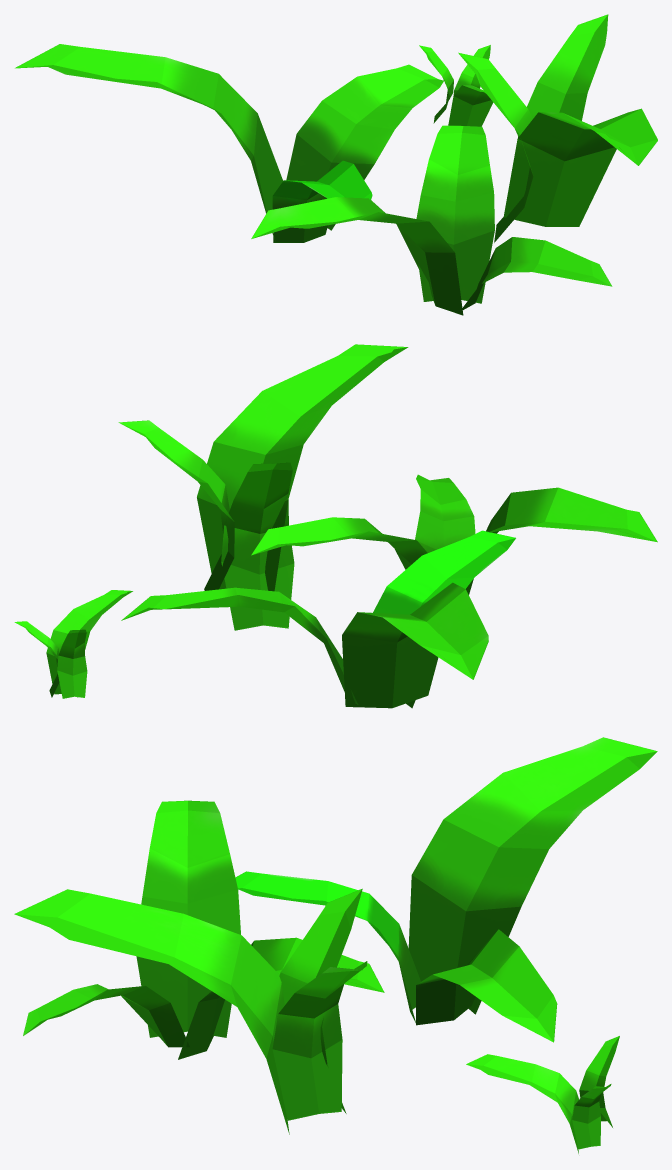
Rendered from weed_1.glb.
3 renders of one model, top to bottom at view 1: azimuth 30°, elevation 25°; view 2: azimuth 150°, elevation 25°; view 3: azimuth 270°, elevation 25°, orthographic. The views are drawn at different scales.
Parts seen in each view (by area): view 1: Plane.002, Plane.005, Plane.010, Plane.001, Plane.009, Plane.003, Plane.011, Plane, Plane.004, Plane.006, Plane.008, Plane.007; view 2: Plane.002, Plane.001, Plane.004, Plane.009, Plane, Plane.005, Plane.010, Plane.011, Plane.003, Plane.006, Plane.008, Plane.007; view 3: Plane.001, Plane.002, Plane.009, Plane.003, Plane.005, Plane, Plane.004, Plane.011, Plane.010, Plane.006, Plane.007, Plane.008.
Boxes of the visible parts, left/top/right/bottom form: Plane.002: left=503, top=108, right=657, bottom=226; Plane.005: left=286, top=64, right=443, bottom=230; Plane.010: left=416, top=125, right=494, bottom=303; Plane.001: left=15, top=44, right=282, bottom=241; Plane.009: left=251, top=197, right=463, bottom=315; Plane.003: left=518, top=14, right=608, bottom=137; Plane.011: left=462, top=237, right=612, bottom=309; Plane: left=272, top=160, right=372, bottom=242; Plane.004: left=458, top=52, right=533, bottom=242; Plane.006: left=448, top=85, right=493, bottom=126; Plane.008: left=419, top=45, right=453, bottom=123; Plane.007: left=453, top=45, right=490, bottom=95; Plane.002: left=197, top=344, right=408, bottom=591; Plane.001: left=342, top=582, right=488, bottom=708; Plane.004: left=221, top=462, right=294, bottom=630; Plane.009: left=466, top=487, right=657, bottom=594; Plane: left=373, top=530, right=515, bottom=708; Plane.005: left=121, top=587, right=358, bottom=704; Plane.010: left=251, top=517, right=427, bottom=569; Plane.011: left=415, top=474, right=475, bottom=552; Plane.003: left=118, top=420, right=234, bottom=590; Plane.006: left=46, top=590, right=132, bottom=697; Plane.008: left=57, top=629, right=87, bottom=698; Plane.007: left=14, top=621, right=59, bottom=697; Plane.001: left=408, top=737, right=657, bottom=1014; Plane.002: left=14, top=889, right=289, bottom=1134; Plane.009: left=136, top=800, right=240, bottom=1037; Plane.003: left=272, top=961, right=367, bottom=1120; Plane.005: left=416, top=929, right=557, bottom=1042; Plane: left=233, top=871, right=420, bottom=1022; Plane.004: left=279, top=888, right=362, bottom=1113; Plane.011: left=23, top=984, right=189, bottom=1047; Plane.010: left=178, top=937, right=384, bottom=1059; Plane.006: left=466, top=1054, right=578, bottom=1153; Plane.007: left=572, top=1084, right=611, bottom=1149; Plane.008: left=579, top=1036, right=619, bottom=1127.
Bounding box in the file's own units: 0.9129 × 0.3497 × 0.9581.
12 materials, 12 textured.
